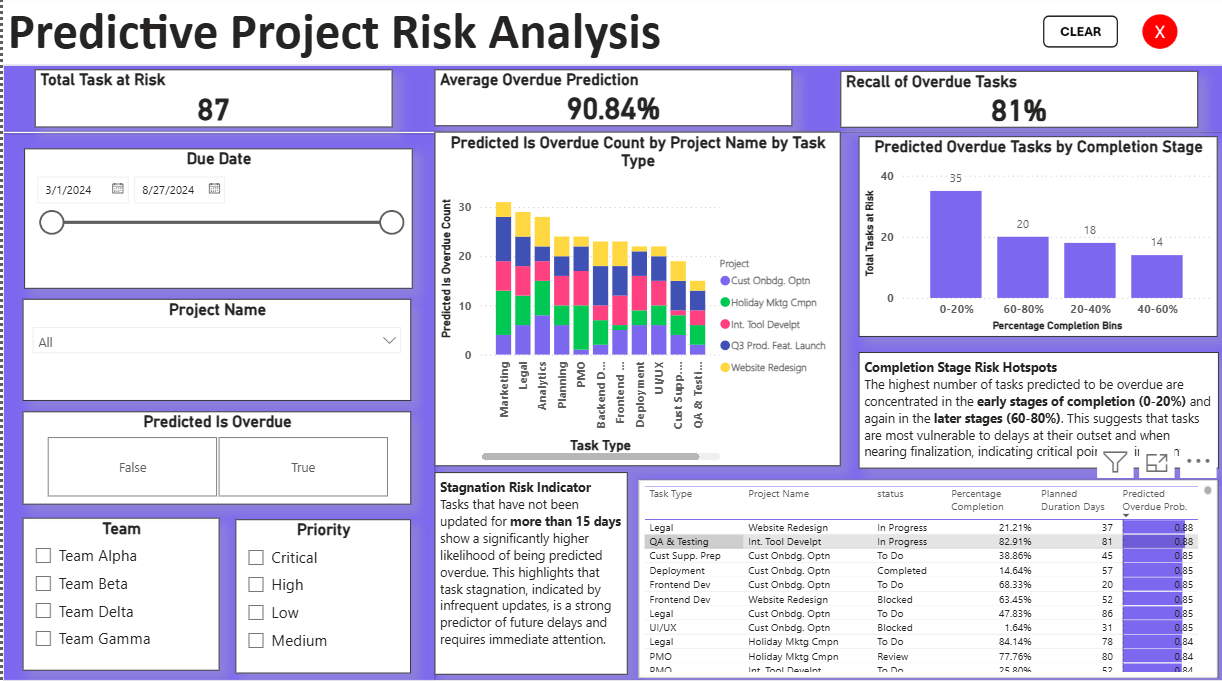

The page's visual inventory and layout, read from the dashboard file:
{"tool":"powerbi","page":{"name":"Final Predictive Insights","canvas":[1280,720],"ordinal":1},"visuals":[{"type":"textbox","box":[0,0,1064.9,74.8],"z":0},{"type":"group","id":"g1","title":"Predicted KPIs","box":[0,73.2,1279.7,644.2],"z":0,"group":"g3"},{"type":"shape","box":[0,73.2,1279.7,70],"z":0,"group":"g1"},{"type":"shape","box":[0,144.8,452.3,574.3],"z":0,"group":"g2"},{"type":"group","id":"g2","title":"Slicers","box":[0,6.4,1236.2,712.7],"z":1000},{"type":"shape","box":[452.3,142.7,827.4,574.6],"z":1000,"group":"g1"},{"type":"columnChart","title":"Predicted Is Overdue Count by Project Name by Task Type","fields":{"Category":["project_tasks_for_power_bi.task_type_name"],"Series":["project_tasks_for_power_bi.project_name"],"Y":["CountNonNull(project_tasks_for_power_bi.predicted_is_overdue)"]},"box":[452,144,425,350.2],"z":1000,"group":"g3"},{"type":"slicer","title":"Due Date","fields":{"Values":["project_tasks_for_power_bi.due_date"]},"box":[22.8,160.7,406.8,147],"z":1000,"group":"g2"},{"type":"group","id":"g3","title":"Group 2","box":[0,73.2,1279.7,644.6],"z":2000},{"type":"card","title":"Total Task at Risk","fields":{"Values":["measure table.Total Tasks at Risk"]},"box":[33.4,77.9,374.1,60.7],"z":2000,"group":"g1"},{"type":"clusteredColumnChart","title":"Predicted Overdue Tasks by Completion Stage","fields":{"Y":["measure table.Total Tasks at Risk"],"Category":["project_tasks_for_power_bi.Completion Stage Range"]},"box":[896.1,148.8,375.6,210.1],"z":2000,"group":"g3"},{"type":"slicer","title":"Project Name","fields":{"Values":["project_tasks_for_power_bi.project_name"]},"box":[19.9,318.9,406.8,106.3],"z":2000,"group":"g2"},{"type":"card","title":"Average Overdue Prediction","fields":{"Values":["measure table.Accuracy of Overdue Prediction"]},"box":[452,78.3,374.1,58.9],"z":3000,"group":"g1"},{"type":"textbox","box":[452,500.5,202.1,211.7],"z":3000,"group":"g3"},{"type":"slicer","title":"Team","fields":{"Values":["project_tasks_for_power_bi.assignee_team"]},"box":[20.9,547.5,206,160],"z":3000,"group":"g2"},{"type":"card","title":"Recall of Overdue Tasks","fields":{"Values":["measure table.Recall of Overdue Tasks"]},"box":[877,79.9,374.1,58.9],"z":4000,"group":"g1"},{"type":"textbox","box":[895.4,373.9,377.1,121.8],"z":4000,"group":"g3"},{"type":"slicer","title":"Priority","fields":{"Values":["project_tasks_for_power_bi.priority"]},"box":[243.1,549.1,183.5,161],"z":4000,"group":"g2"},{"type":"slicer","title":"Predicted Is Overdue","fields":{"Values":["project_tasks_for_power_bi.predicted_is_overdue"]},"box":[19.9,436.5,406.8,97.2],"z":5000,"group":"g2"},{"type":"tableEx","fields":{"Values":["project_tasks_for_power_bi.task_type_name","project_tasks_for_power_bi.project_name","project_tasks_for_power_bi.status","measure table.Percentage Completion Display","project_tasks_for_power_bi.planned_duration_days","project_tasks_for_power_bi.predicted_overdue_probability"]},"box":[665.3,507.3,607.3,206.9],"z":5000,"group":"g3"},{"type":"image","box":[1186.3,14.4,49.9,49.9],"z":5500,"group":"g2"},{"type":"image","box":[1083.3,6.4,88.5,62.8],"z":6000,"group":"g2"}]}

Visuals, with their boxes in screenshot pixels (x1, y1, x2, y2), scaled from the page's 1280x720 canvas onto the 1222x681 screenshot:
textbox: bbox(0, 0, 1017, 71)
"Predicted KPIs" group: bbox(0, 69, 1221, 679)
shape: bbox(0, 69, 1221, 135)
shape: bbox(0, 137, 432, 680)
"Slicers" group: bbox(0, 6, 1180, 680)
shape: bbox(432, 135, 1221, 678)
"Predicted Is Overdue Count by Project Name by Task Type" columnChart: bbox(432, 136, 837, 467)
"Due Date" slicer: bbox(22, 152, 410, 291)
"Group 2" group: bbox(0, 69, 1221, 679)
"Total Task at Risk" card: bbox(32, 74, 389, 131)
"Predicted Overdue Tasks by Completion Stage" clusteredColumnChart: bbox(855, 141, 1214, 339)
"Project Name" slicer: bbox(19, 302, 407, 402)
"Average Overdue Prediction" card: bbox(432, 74, 789, 130)
textbox: bbox(432, 473, 624, 674)
"Team" slicer: bbox(20, 518, 217, 669)
"Recall of Overdue Tasks" card: bbox(837, 76, 1194, 131)
textbox: bbox(855, 354, 1215, 469)
"Priority" slicer: bbox(232, 519, 407, 672)
"Predicted Is Overdue" slicer: bbox(19, 413, 407, 505)
tableEx - project_tasks_for_power_bi.task_type_name x project_tasks_for_power_bi.project_name: bbox(635, 480, 1215, 676)
image: bbox(1133, 14, 1180, 61)
image: bbox(1034, 6, 1119, 65)
